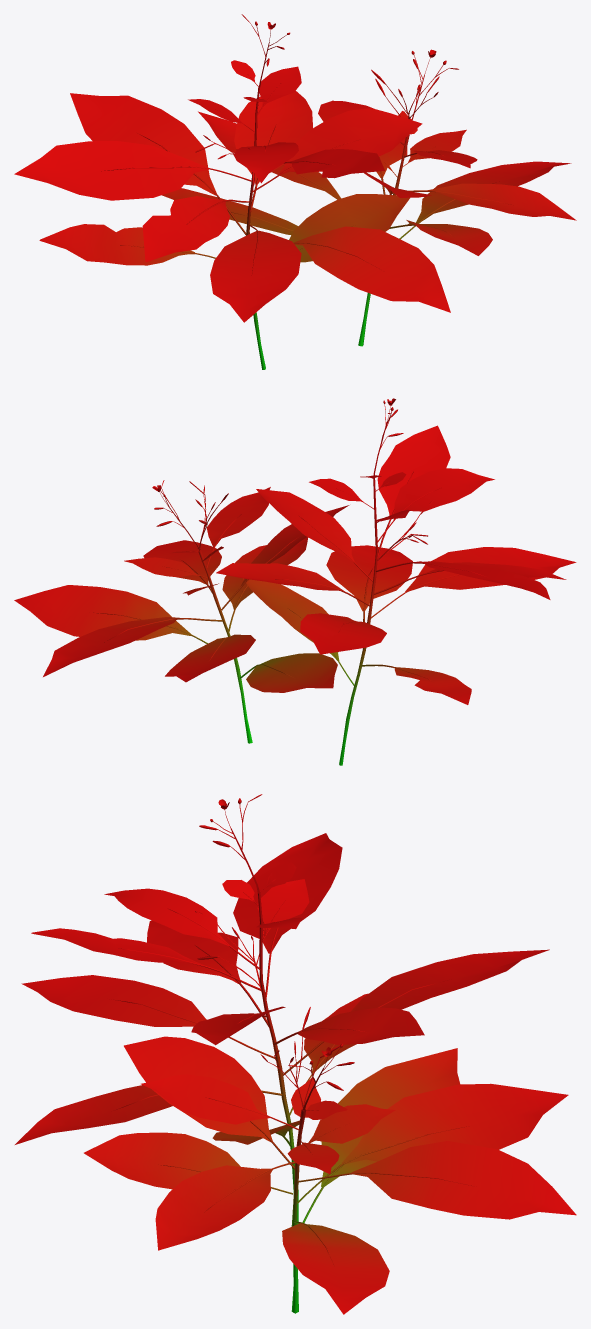
File: Small Balsam_LOD1_Var5_xefmcgrqx.fbx
The picture shows the model from 3 angles, top to bottom: view 1: azimuth 30°, elevation 25°; view 2: azimuth 150°, elevation 25°; view 3: azimuth 270°, elevation 25°; orthographic projection. The views are drawn at different scales.
Parts seen in each view (by area): view 1: _ihak_Var5_LOD1; view 2: _ihak_Var5_LOD1; view 3: _ihak_Var5_LOD1.
Boxes of the visible parts, x1=… form: _ihak_Var5_LOD1: x1=14, y1=14, x2=576, y2=369; _ihak_Var5_LOD1: x1=14, y1=398, x2=576, y2=765; _ihak_Var5_LOD1: x1=15, y1=794, x2=576, y2=1314.
Bounding box in the file's own units: 64.89 × 41.09 × 47.42.
